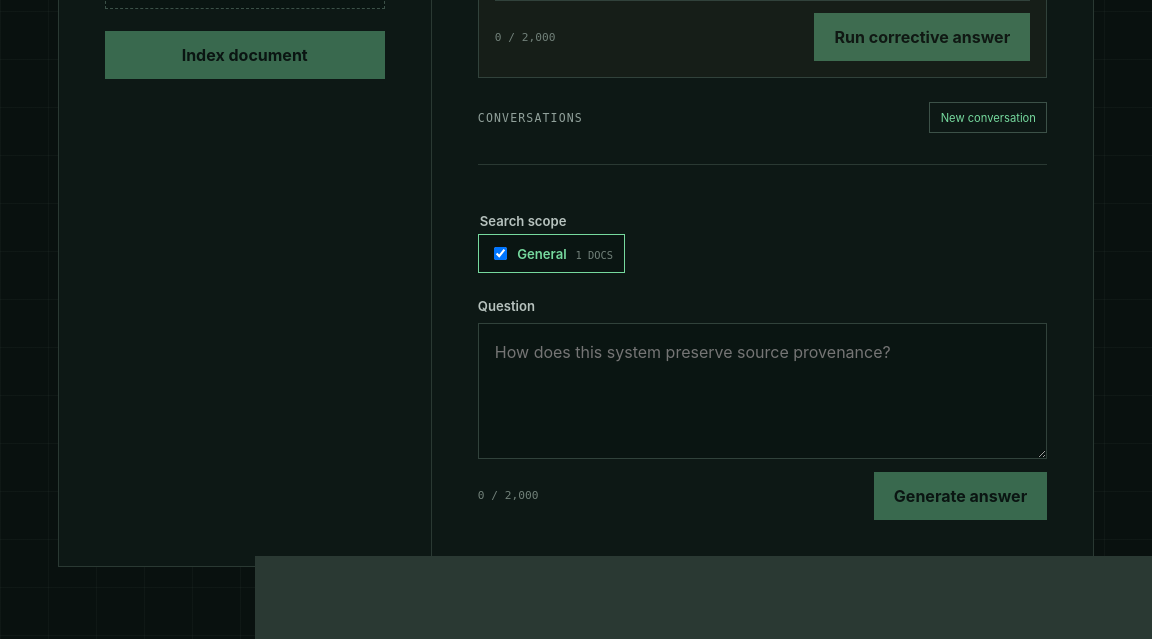
asks a question and renders expandable citation provenance
(page scrolled)
Type "How is evidence traced?" into the text box labelled "Question" at (763, 391), box x1=478 y1=323 x2=1047 y2=459
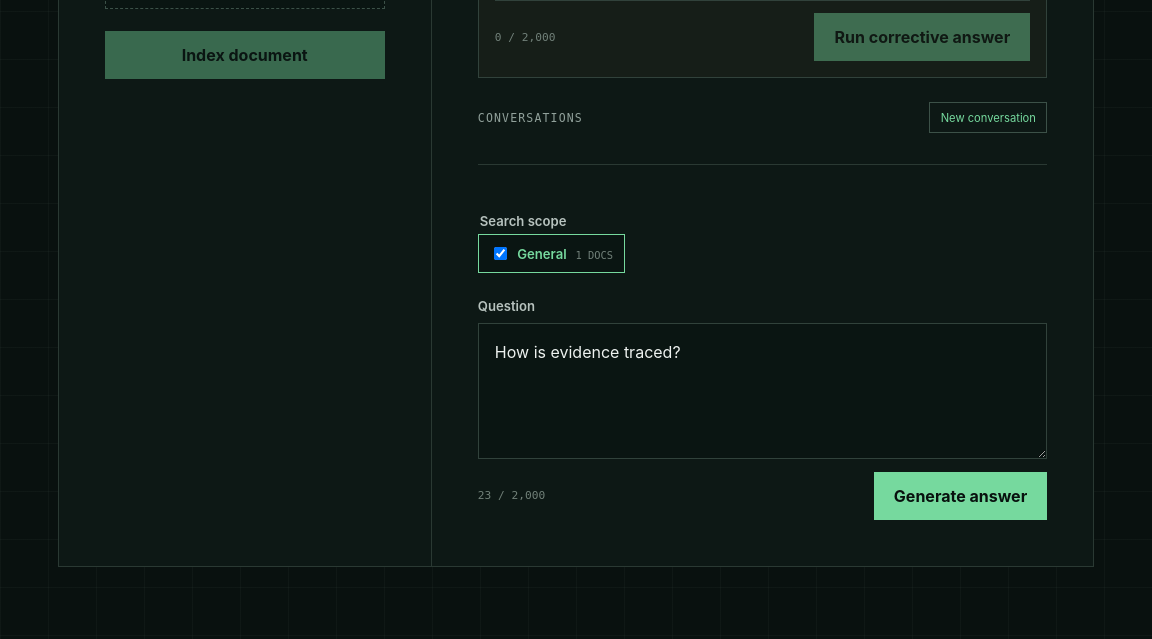
Click the button "Generate answer" at (961, 496), box x1=874 y1=472 x2=1047 y2=520
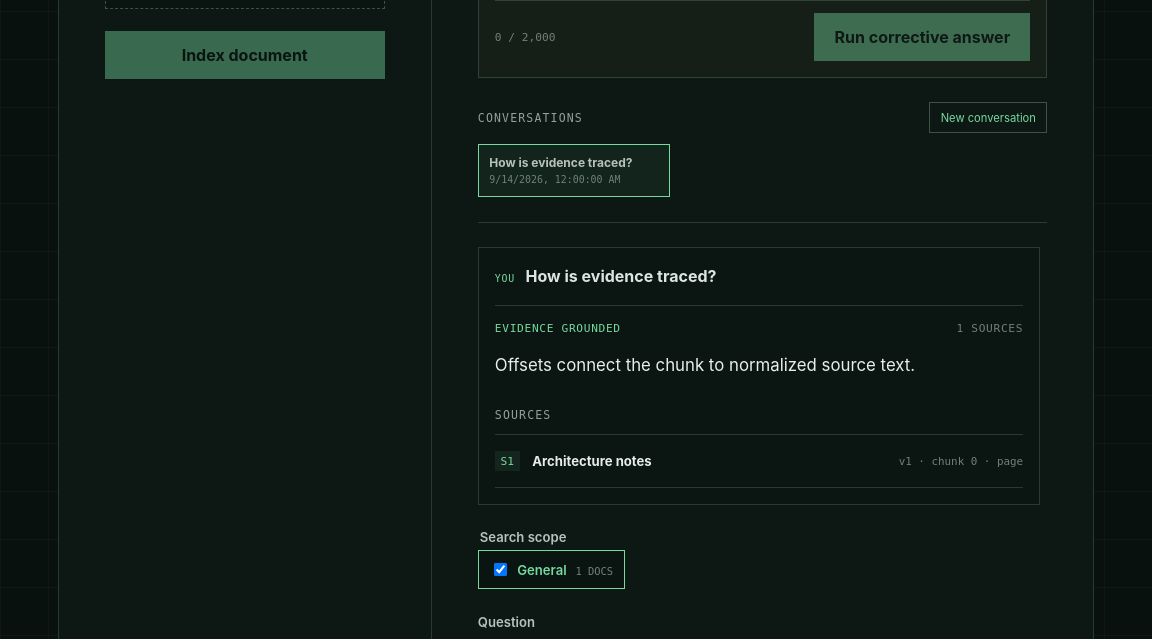
Result: the text "Offsets connect the chunk to normalized source text." is shown at x1=495 y1=355 x2=915 y2=375
Result: the text "Evidence grounded" is shown at x1=495 y1=322 x2=621 y2=335
Result: the text "Architecture notes" is shown at x1=532 y1=453 x2=652 y2=469
